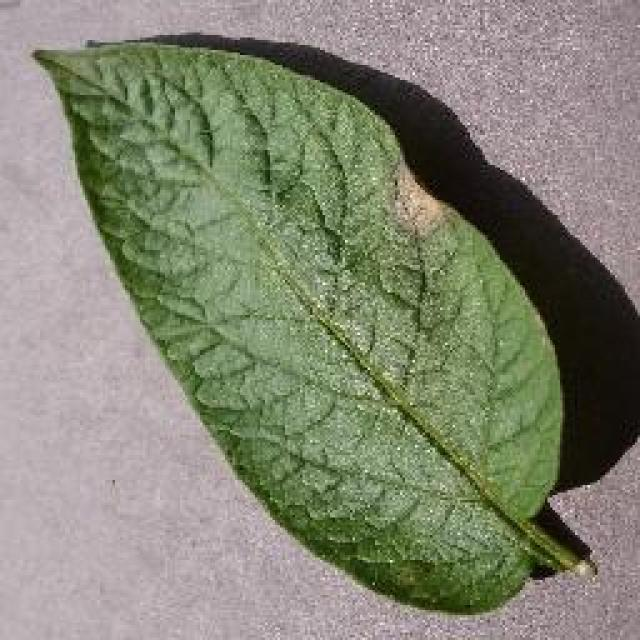late_blight: (27, 32, 595, 620)
